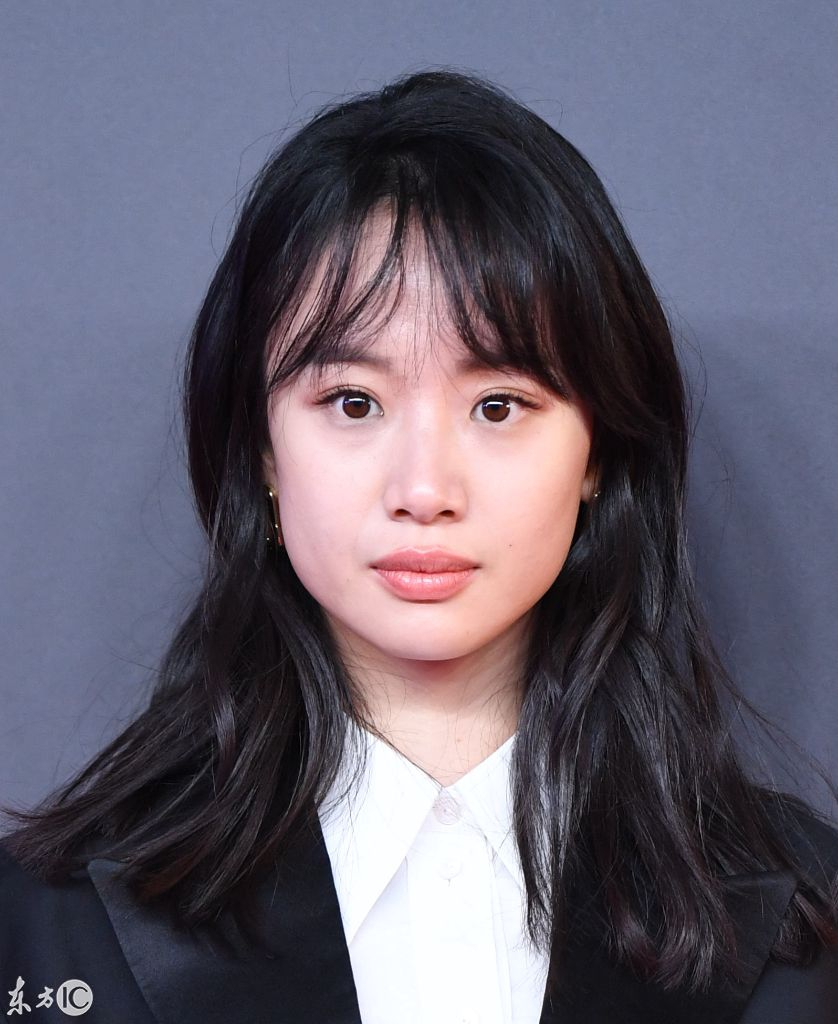unmask: (264, 245, 560, 632)
